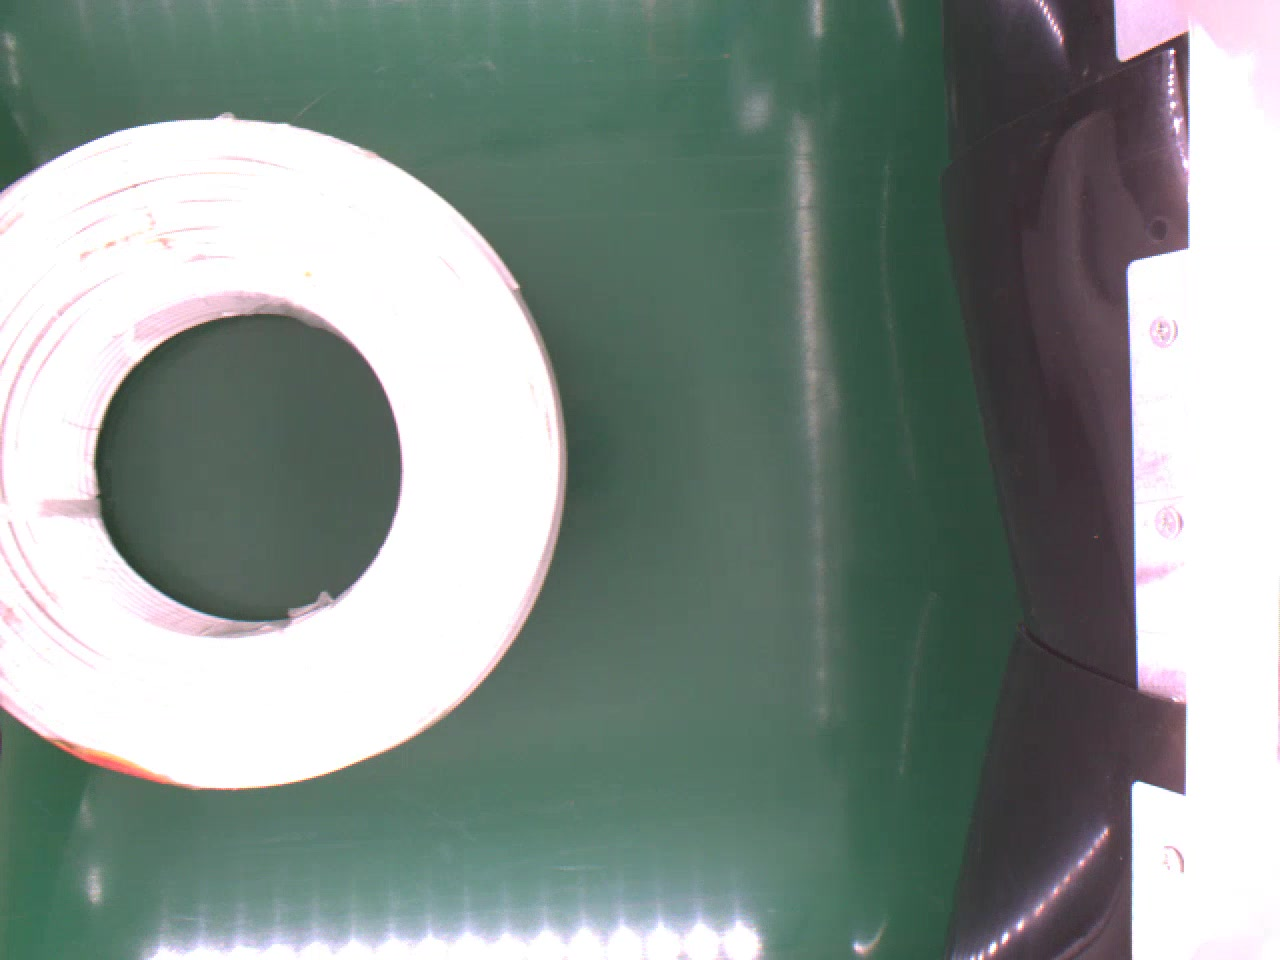white: (0, 115, 566, 800)
